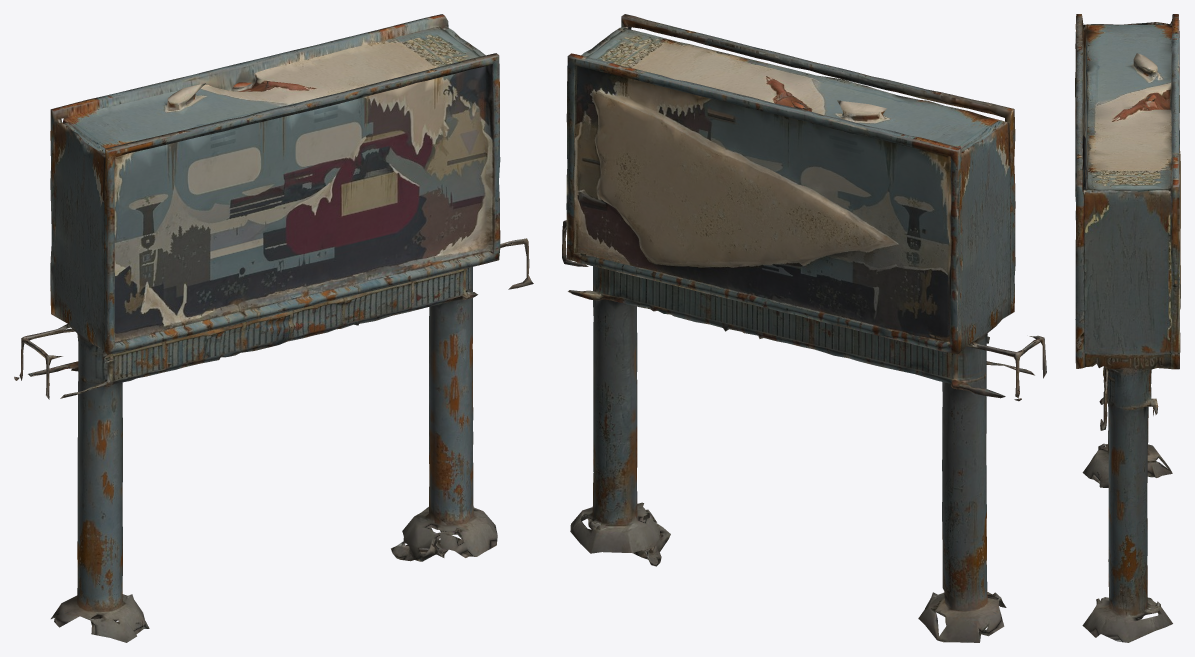
File: Prop_Billboard.glb
The picture shows the model from 3 angles, left to right: view 1: azimuth 30°, elevation 25°; view 2: azimuth 150°, elevation 25°; view 3: azimuth 270°, elevation 25°; orthographic projection. The views are drawn at different scales.
Visible parts, largest first — view 1: texture_mapping; view 2: texture_mapping; view 3: texture_mapping.
Part boxes in pixels (x1,y1,x2,y2): texture_mapping: (14,14,533,642); texture_mapping: (562,14,1046,642); texture_mapping: (1075,14,1180,642).
Bounding box in the file's own units: 0.9899 × 0.9992 × 0.2064.
1 material, 1 textured.
